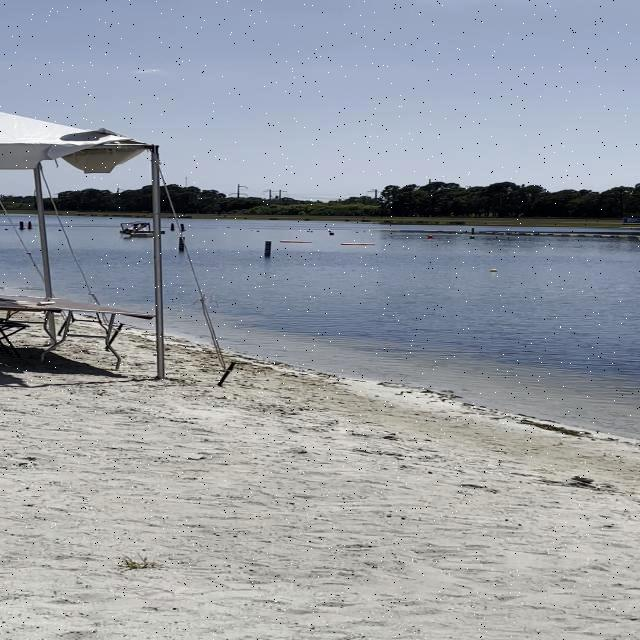buoy: (486, 267, 499, 274), (427, 234, 435, 240)
